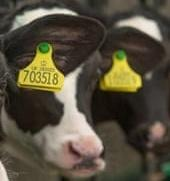muzzles: (49, 132, 109, 180)
